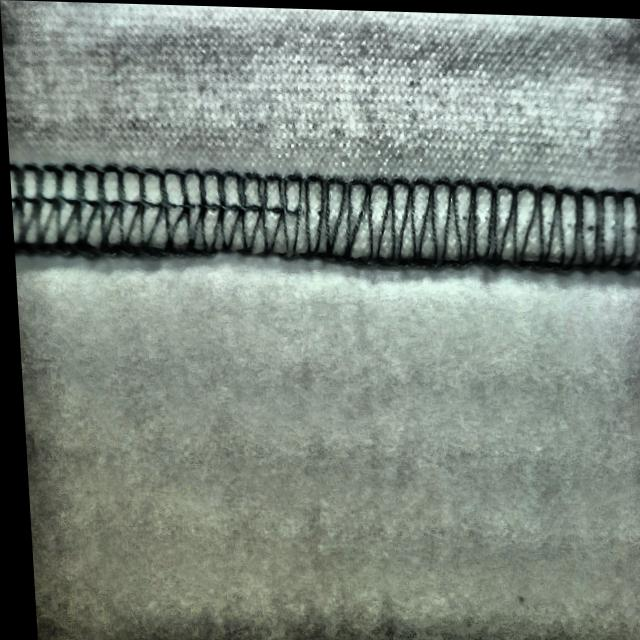Stitch: (66, 160, 485, 267)
